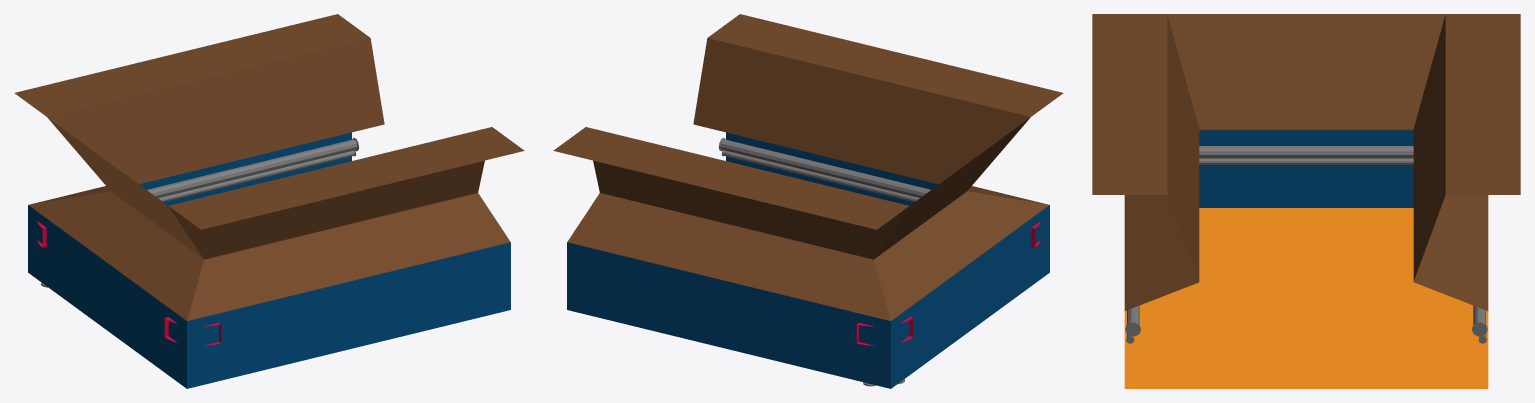
The model's file is End.fbx.
The picture shows the model from 3 angles, left to right: view 1: azimuth 30°, elevation 25°; view 2: azimuth 150°, elevation 25°; view 3: azimuth 270°, elevation 25°; orthographic projection. The views are drawn at different scales.
Parts seen in each view (by area): view 1: End, Cylinder.001; view 2: End, Cylinder; view 3: End, Cylinder.006, Cylinder, Cylinder.001.
Part boxes in pixels (box(x1,y1,x2,y2)): End: box(14, 14, 524, 388); Cylinder.001: box(147, 138, 358, 202); End: box(553, 14, 1063, 388); Cylinder: box(719, 138, 930, 202); End: box(1092, 14, 1520, 388); Cylinder.006: box(1199, 146, 1413, 164); Cylinder: box(1125, 305, 1140, 343); Cylinder.001: box(1472, 305, 1487, 343).
Bounding box in the file's own units: 4.05 × 2.04 × 4.
Materials: 3 (1 with a texture image).
